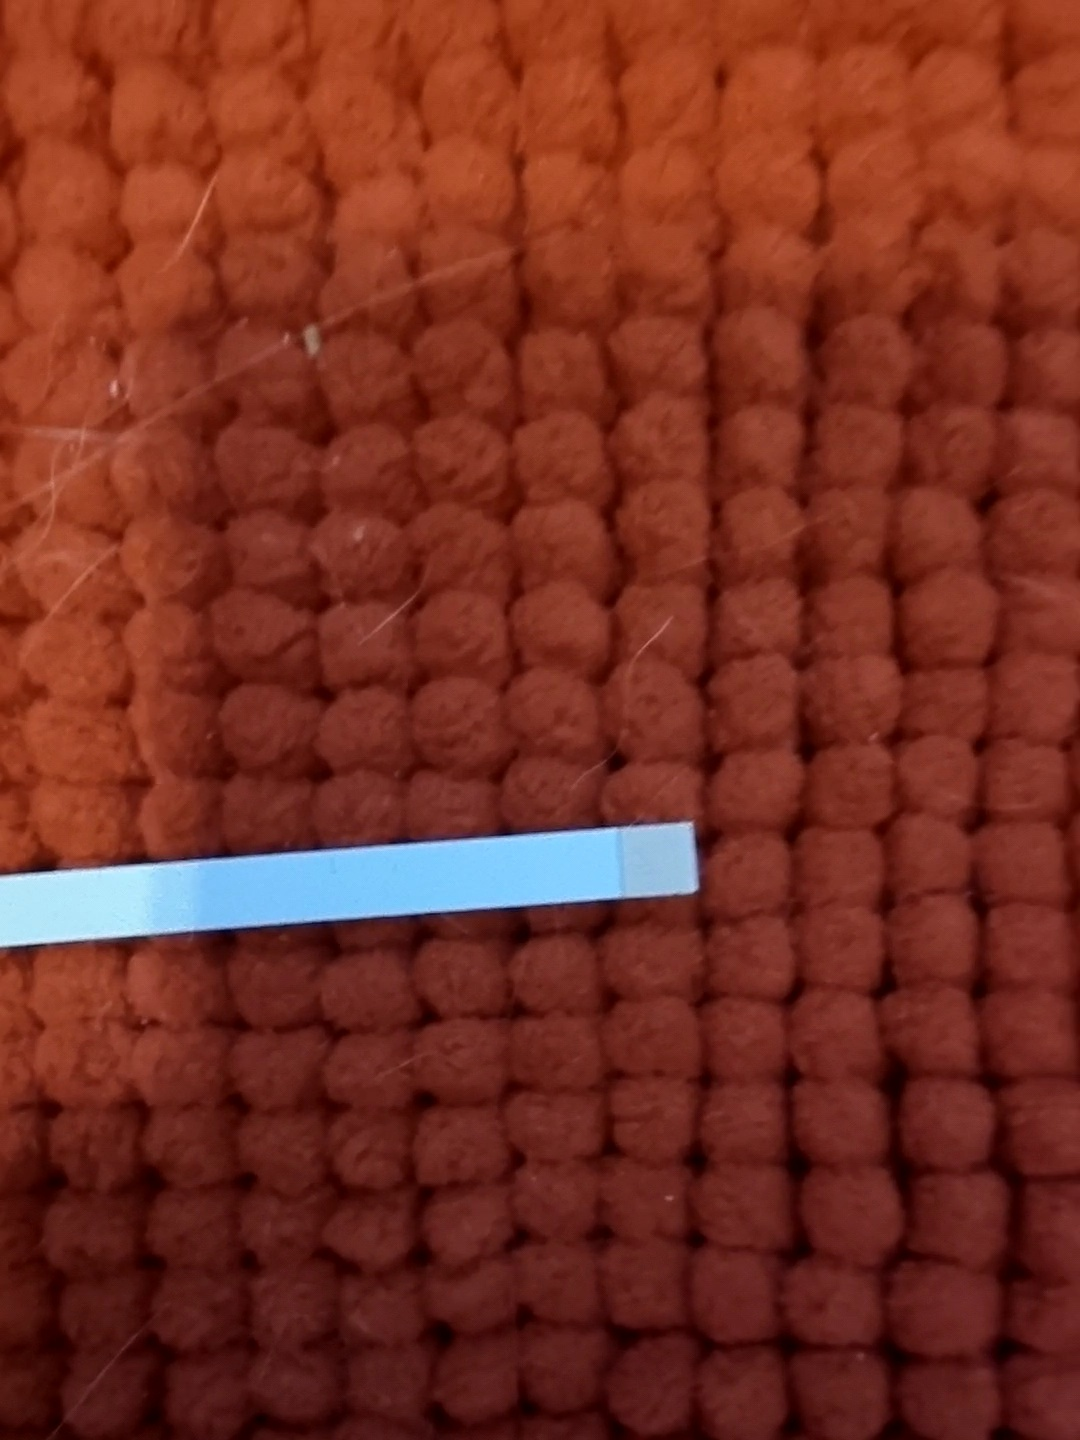keto-tip: (611, 816, 703, 901)
